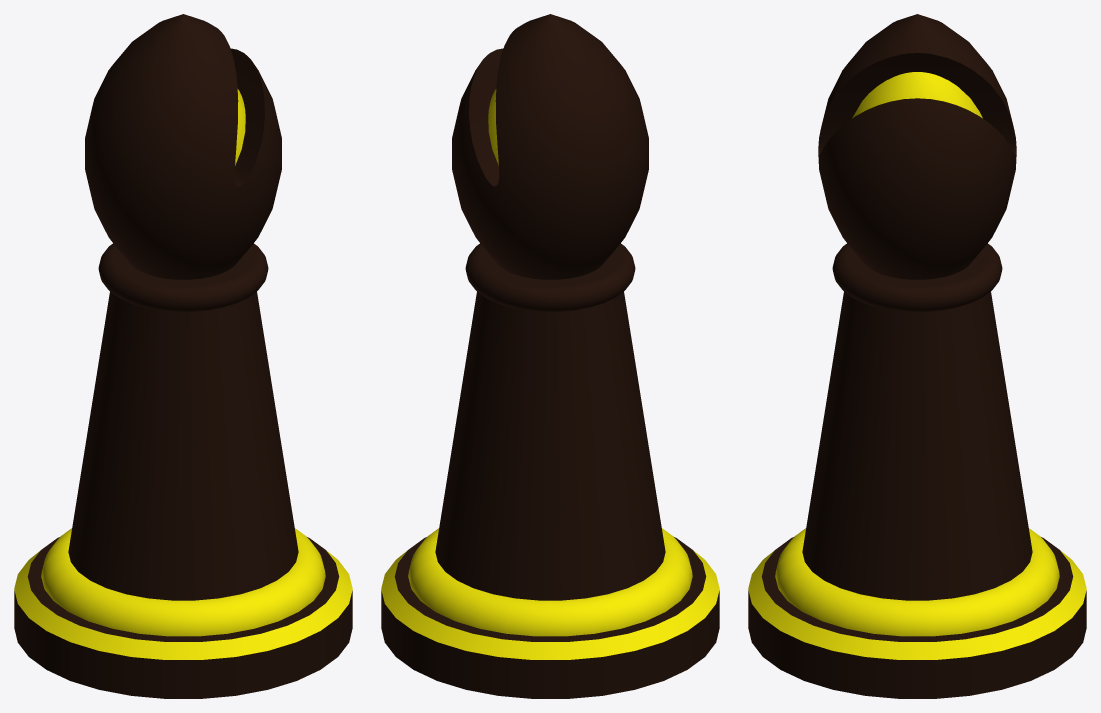
File: Premium_B_Bishop.gltf
3 views of the same model, side by side, from view 1: azimuth 30°, elevation 25°; view 2: azimuth 150°, elevation 25°; view 3: azimuth 270°, elevation 25° (orthographic).
Visible parts, largest first — view 1: Bishop Black; view 2: Bishop Black; view 3: Bishop Black.
Boxes of the visible parts, box(x1,y1,x2,y2) form: Bishop Black: box(14, 14, 352, 698); Bishop Black: box(381, 14, 719, 698); Bishop Black: box(748, 14, 1086, 698).
Bounding box in the file's own units: 0.0284 × 0.0571 × 0.0286.
